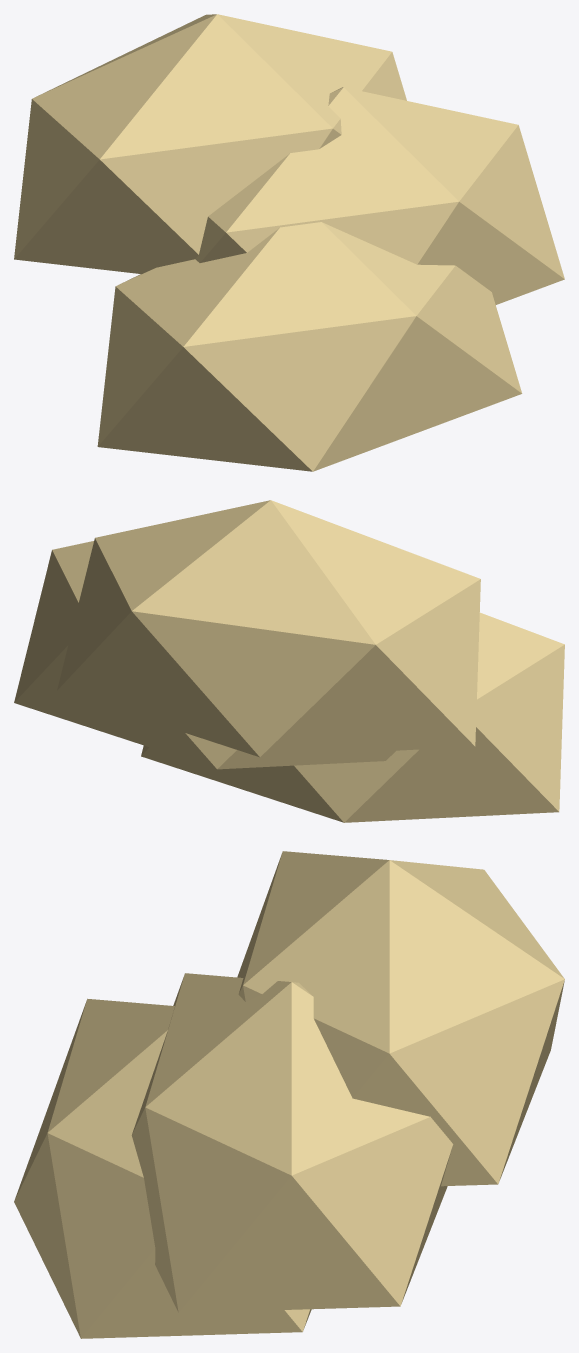
Rendered from item_066_pea_seed_m.glb.
3 views of the same model, one above another, from view 1: azimuth 30°, elevation 25°; view 2: azimuth 150°, elevation 25°; view 3: azimuth 270°, elevation 25° (orthographic). The views are drawn at different scales.
Visible parts, largest first — view 1: item_066_pea_seed_m; view 2: item_066_pea_seed_m; view 3: item_066_pea_seed_m.
Part boxes in pixels (left/top/right/bottom): item_066_pea_seed_m: left=14, top=14, right=564, bottom=471; item_066_pea_seed_m: left=14, top=500, right=564, bottom=822; item_066_pea_seed_m: left=14, top=851, right=564, bottom=1338.
Size of the model in its own units: 0.3835 by 0.2958 by 0.3382.
